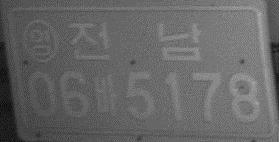0: (26, 69, 57, 118)
1: (158, 70, 188, 121)
5: (125, 70, 155, 121)
6: (58, 69, 88, 118)
7: (191, 72, 221, 122)
8: (228, 72, 261, 123)
바: (92, 72, 120, 117)
영: (22, 18, 60, 63)
전남_D: (66, 21, 202, 61)
